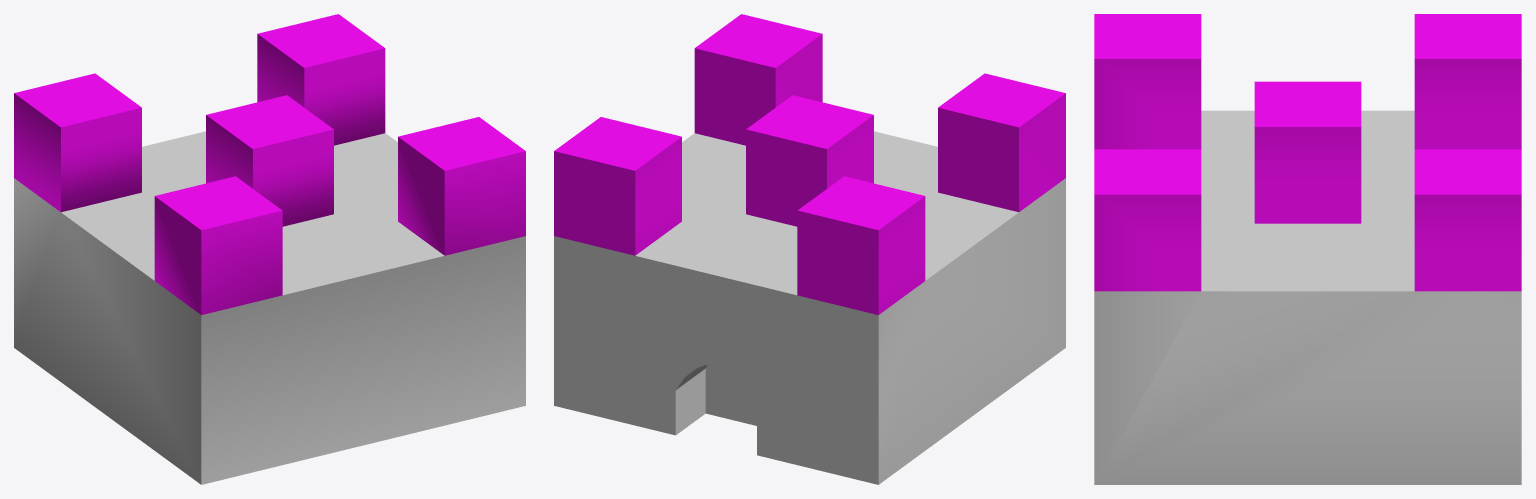
File: Castle.fbx
3 views of the same model, side by side, from view 1: azimuth 30°, elevation 25°; view 2: azimuth 150°, elevation 25°; view 3: azimuth 270°, elevation 25° (orthographic). The views are drawn at different scales.
Parts seen in each view (by area): view 1: Cube; view 2: Cube; view 3: Cube.
Part boxes in pixels (box(x1,y1,x2,y2)): Cube: box(14, 14, 525, 484); Cube: box(554, 14, 1065, 484); Cube: box(1094, 14, 1521, 484).
Size of the model in its own units: 1 by 0.75 by 1.
